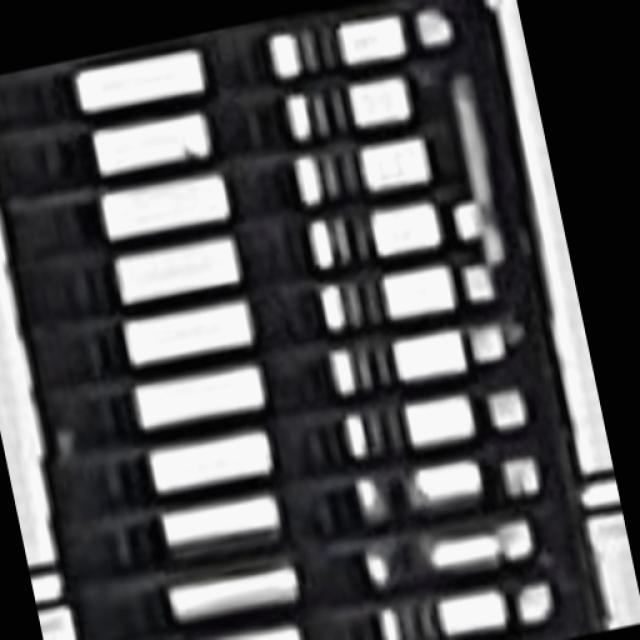igps: (36, 336, 580, 534), (0, 217, 554, 402), (0, 163, 539, 343), (44, 420, 596, 595), (22, 297, 572, 463), (0, 39, 513, 208), (50, 492, 618, 640), (0, 119, 532, 276), (0, 0, 505, 145), (163, 560, 617, 640)
